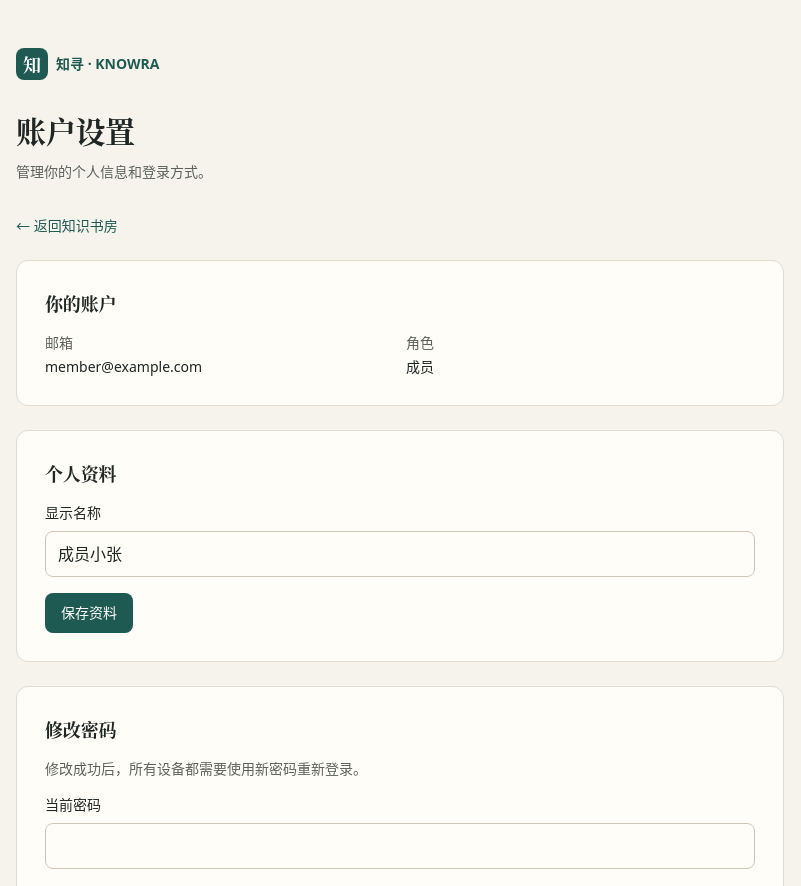
Test case: AccountView › 改密校验失败（Brand-New-Pass-2027 / Other-Pass-2027）提示“不一致”
In the password field with test id "current-password": (400, 846) [45,823,755,869], type "Knowra-Pass-2026"
(page scrolled)
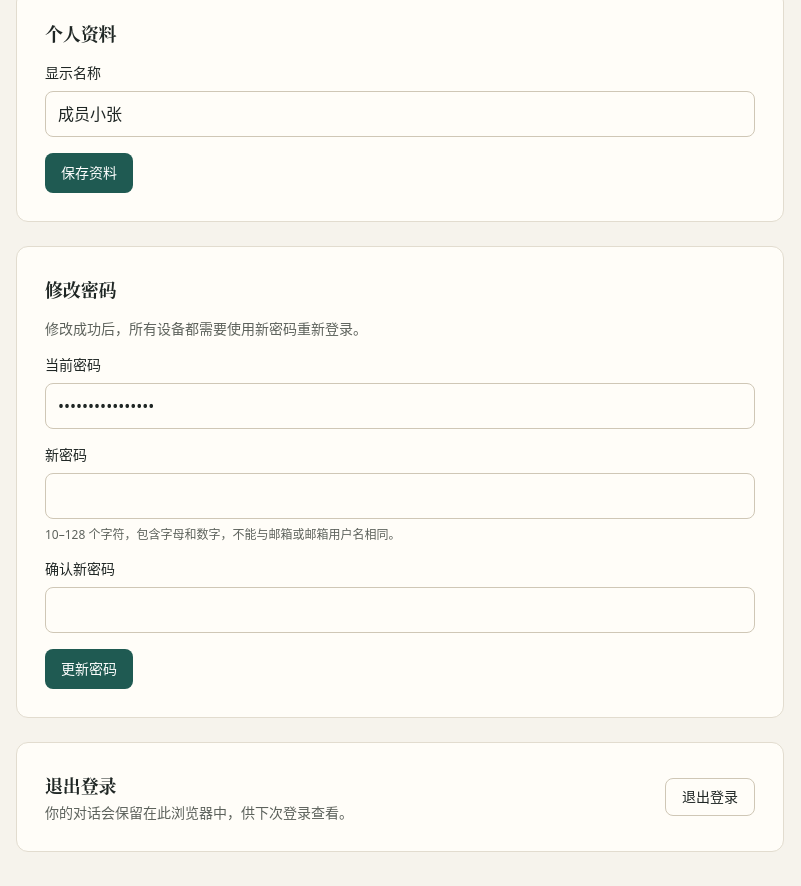
In the password field with test id "new-password": (400, 496) [45,473,755,519], type "Brand-New-Pass-2027"
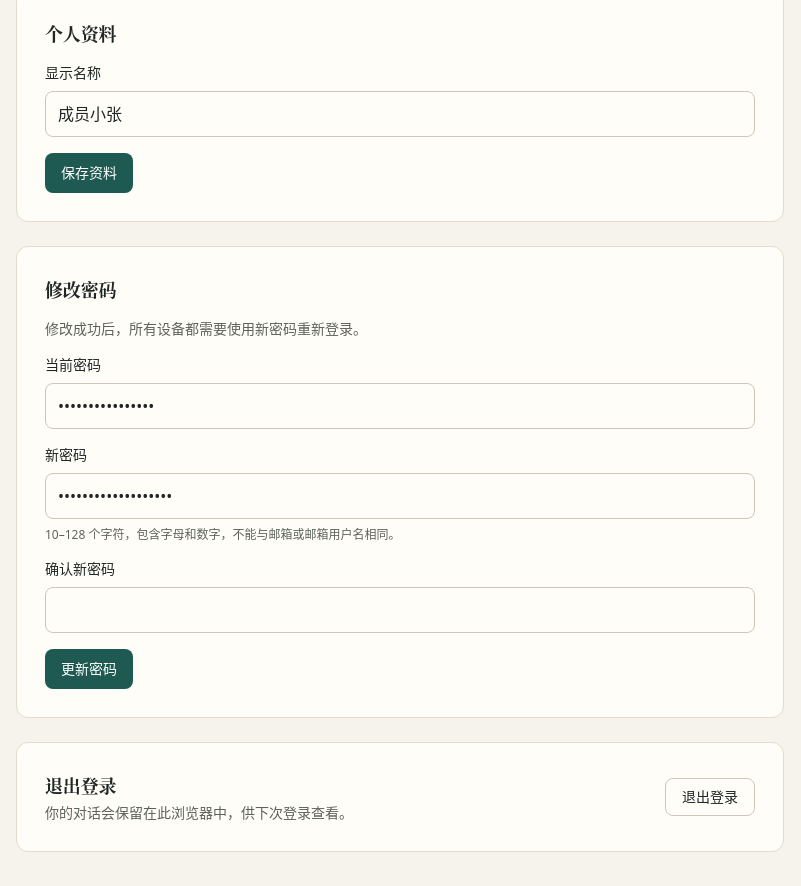
In the password field with test id "confirm-password": (400, 610) [45,587,755,633], type "Other-Pass-2027"
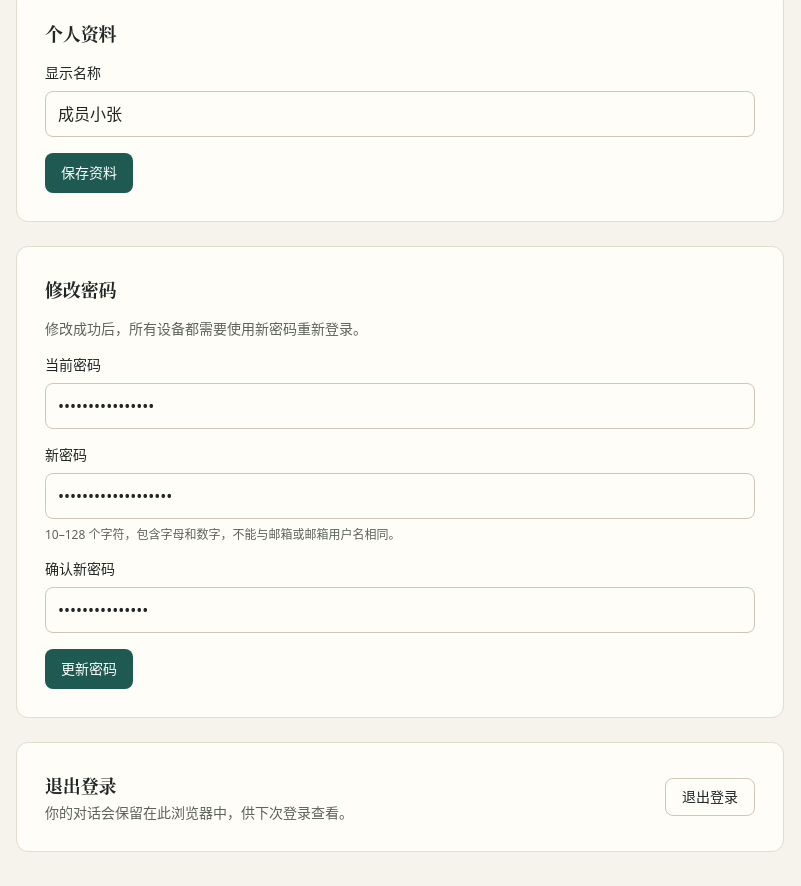
Submit the form with test id "password-form", box [16,246,784,718]
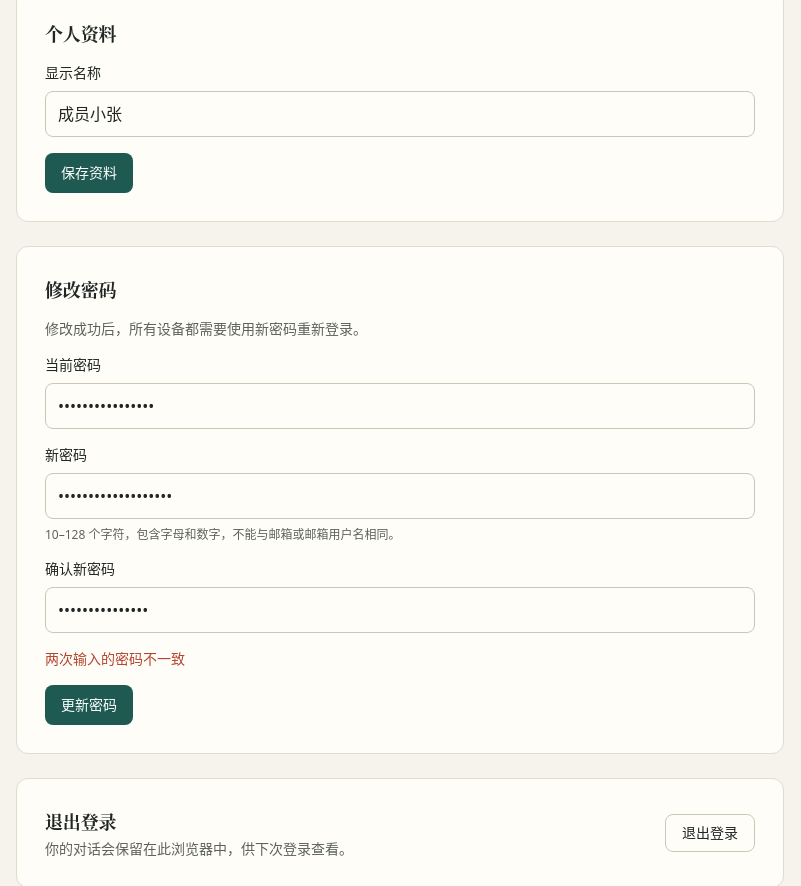
Now the form with test id "password-form" shows "不一致", box [16,246,784,754]
